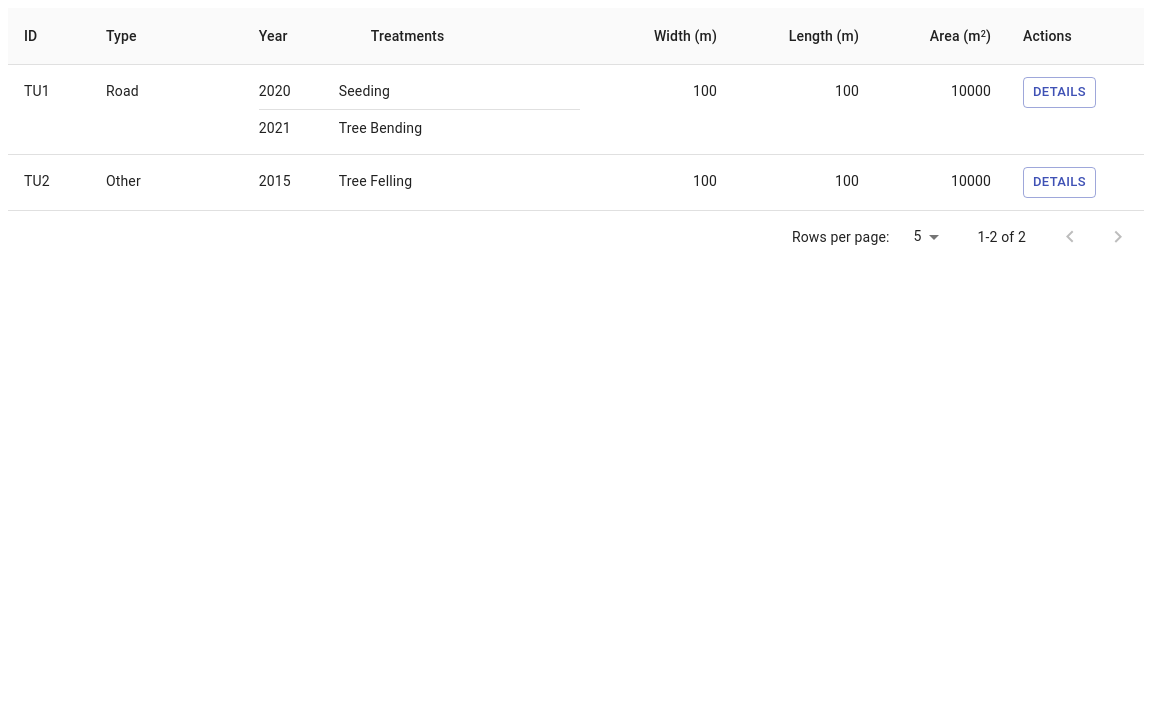
Test case: TreatmentList › renders correctly with open treatment unit details dialog
The image size is (1152, 720).
Expected: the text "Other" is shown, [90,155,243,211]
Expected: the text "Road" is shown, [90,65,243,155]
Click the button with test id "view-treatment-unit-details" in the row of "TU1".
click(1059, 92)  # box [1023,77,1096,108]
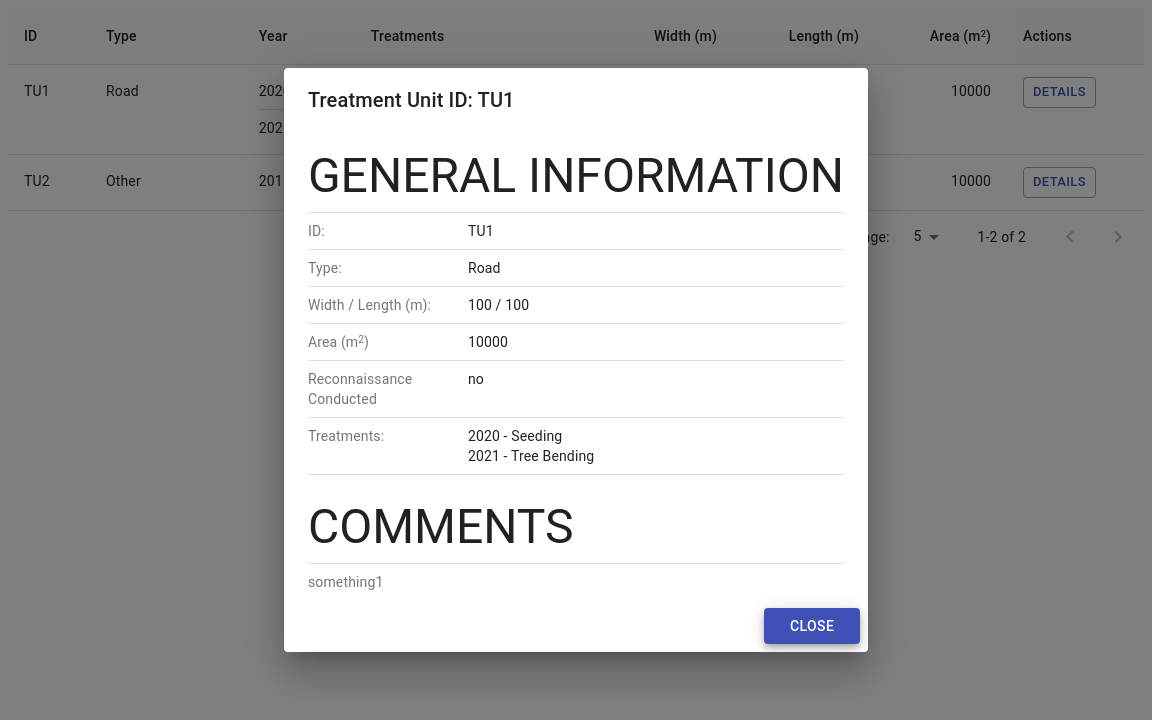
Expected: the text "something1" is shown, [308,574,384,590]
